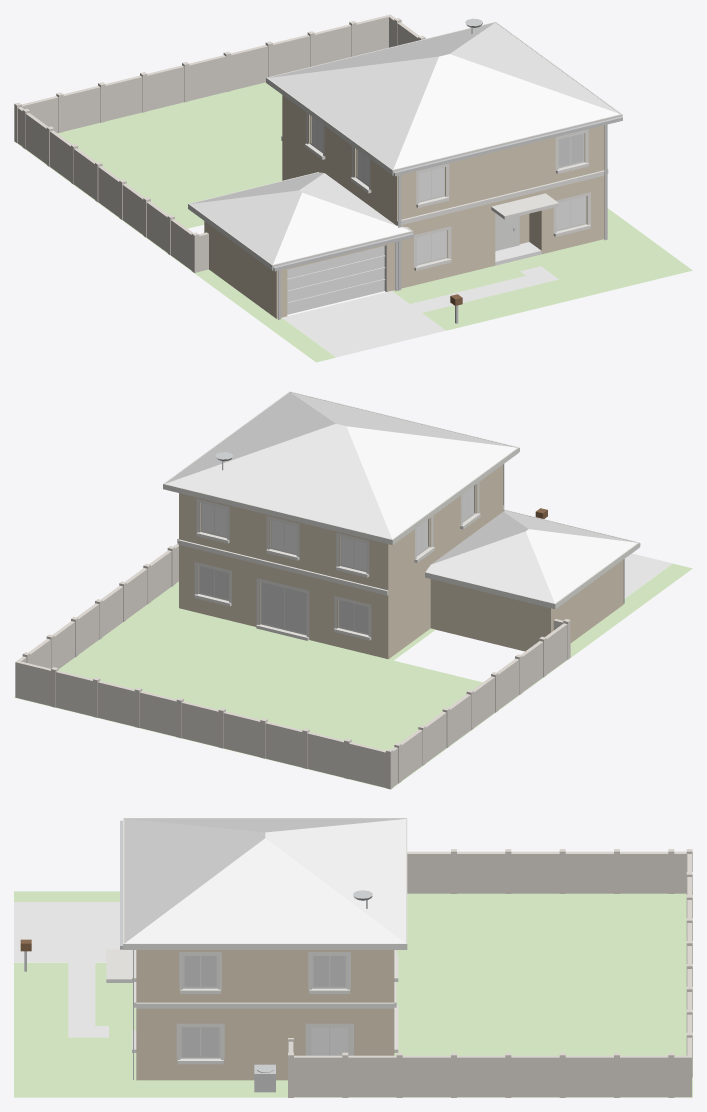
The model's file is house_tract272.glb.
The picture shows the model from 3 angles, top to bottom: view 1: azimuth 30°, elevation 25°; view 2: azimuth 150°, elevation 25°; view 3: azimuth 270°, elevation 25°; orthographic projection. The views are drawn at different scales.
Visible parts, largest first — view 1: house_tract272_Roof, house_tract272_Lawn, house_tract272_Walls, house_tract272_Walls2, house_tract272_Trim, house_tract272_Site, house_tract272_Doors, house_tract272_Details, house_tract272_Glass, house_tract272_Frames, house_tract272_WindowsLit; view 2: house_tract272_Roof, house_tract272_Lawn, house_tract272_Walls, house_tract272_Walls2, house_tract272_Trim, house_tract272_WindowsLit, house_tract272_Glass, house_tract272_Frames, house_tract272_Site; view 3: house_tract272_Lawn, house_tract272_Roof, house_tract272_Walls2, house_tract272_Walls, house_tract272_Trim, house_tract272_Site, house_tract272_WindowsLit, house_tract272_Details, house_tract272_Frames, house_tract272_Glass.
Boxes of the visible parts, x1,y1,x2,y2 form: house_tract272_Roof: [190, 22, 620, 264]; house_tract272_Lawn: [14, 82, 692, 362]; house_tract272_Walls: [204, 95, 604, 318]; house_tract272_Walls2: [14, 14, 425, 272]; house_tract272_Trim: [188, 21, 622, 291]; house_tract272_Site: [282, 242, 558, 357]; house_tract272_Doors: [287, 246, 385, 314]; house_tract272_Details: [273, 18, 622, 323]; house_tract272_Glass: [311, 116, 585, 263]; house_tract272_Frames: [310, 115, 586, 265]; house_tract272_WindowsLit: [558, 133, 583, 166]; house_tract272_Roof: [165, 392, 637, 603]; house_tract272_Lawn: [14, 563, 692, 789]; house_tract272_Walls: [179, 464, 623, 659]; house_tract272_Walls2: [15, 543, 570, 789]; house_tract272_Trim: [163, 391, 639, 640]; house_tract272_WindowsLit: [200, 566, 368, 633]; house_tract272_Glass: [202, 486, 473, 570]; house_tract272_Frames: [198, 485, 475, 635]; house_tract272_Site: [624, 553, 672, 598]; house_tract272_Lawn: [14, 891, 692, 1097]; house_tract272_Roof: [124, 819, 405, 943]; house_tract272_Walls2: [288, 849, 692, 1097]; house_tract272_Walls: [136, 950, 394, 1080]; house_tract272_Trim: [106, 818, 407, 1064]; house_tract272_Site: [14, 902, 119, 1037]; house_tract272_WindowsLit: [182, 956, 345, 1056]; house_tract272_Details: [24, 820, 372, 1092]; house_tract272_Frames: [180, 955, 349, 1058]; house_tract272_Glass: [311, 1027, 348, 1055].
Bounding box in the file's own units: 72 × 30.49 × 100.
